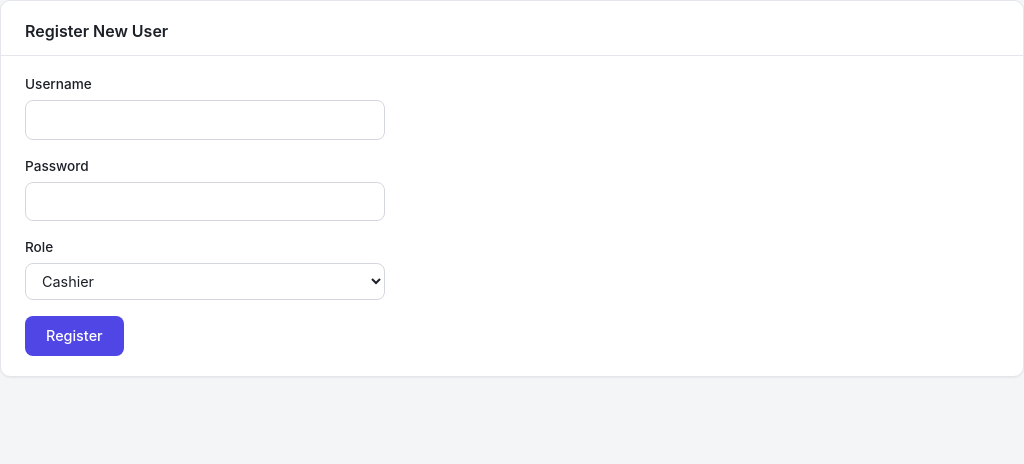
UserRegistration › shows the server error on failure
Type "newguy" into the field labelled "Username" at {"x": 205, "y": 120}, box [25,100,385,140]
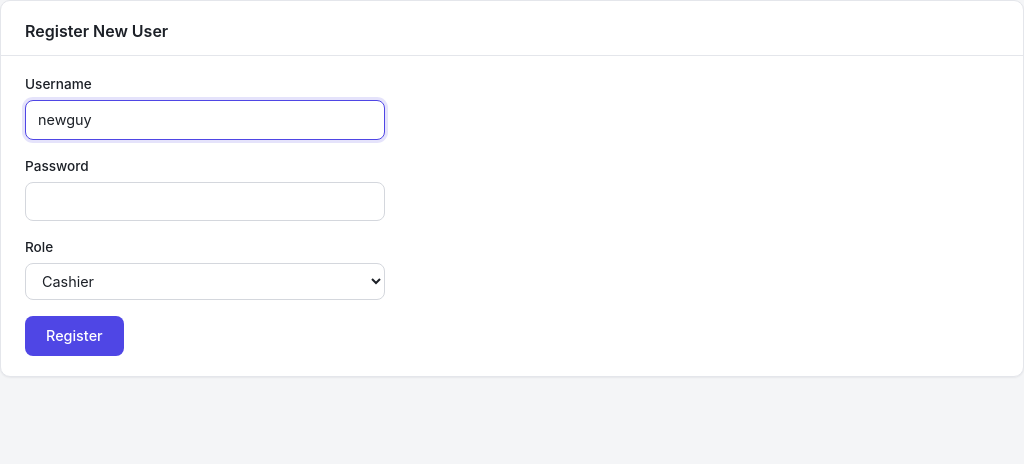
Type "secret" into the password field labelled "Password" at {"x": 205, "y": 201}, box [25,182,385,221]
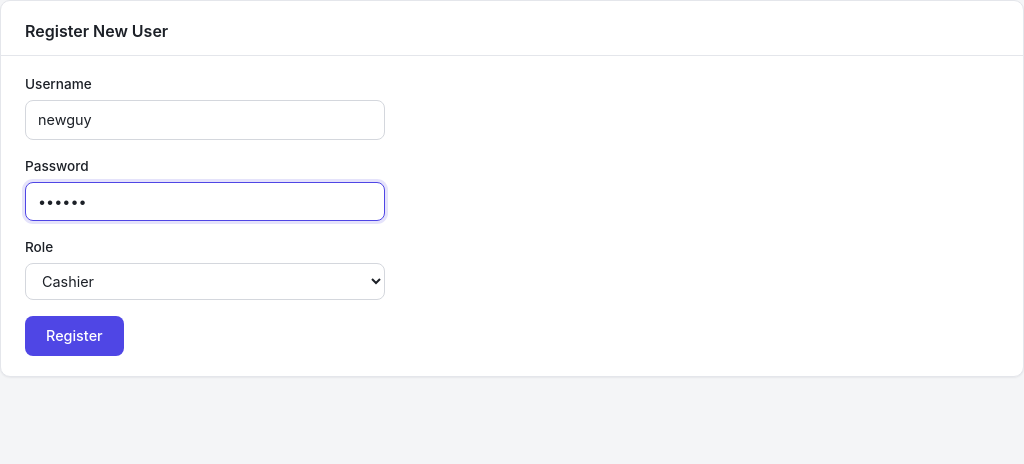
Click the button "Register" at {"x": 74, "y": 336}, box [25,316,124,356]
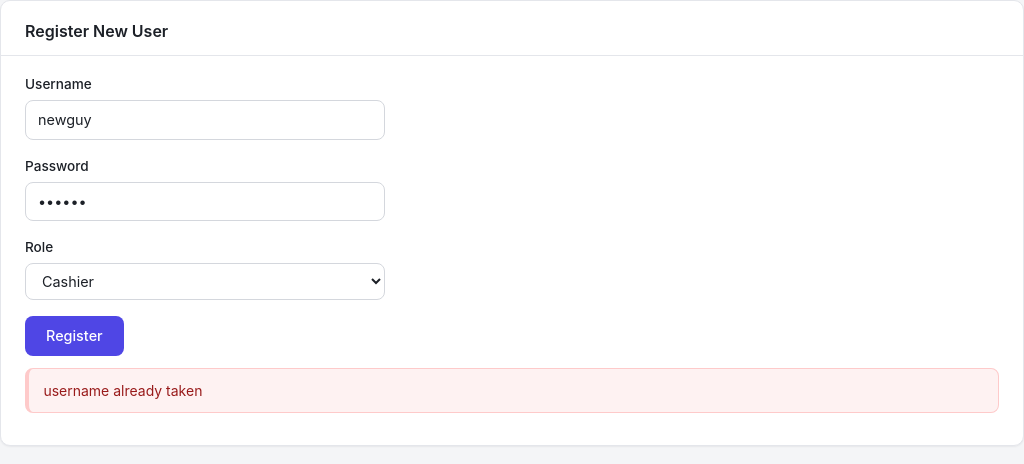
expect the text "username already taken" is shown: met, box [25,368,999,413]
